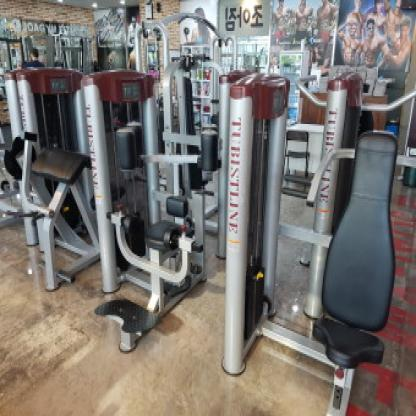Chest Press machine: (307, 130, 415, 416)
arm curl machine: (4, 131, 103, 294)
